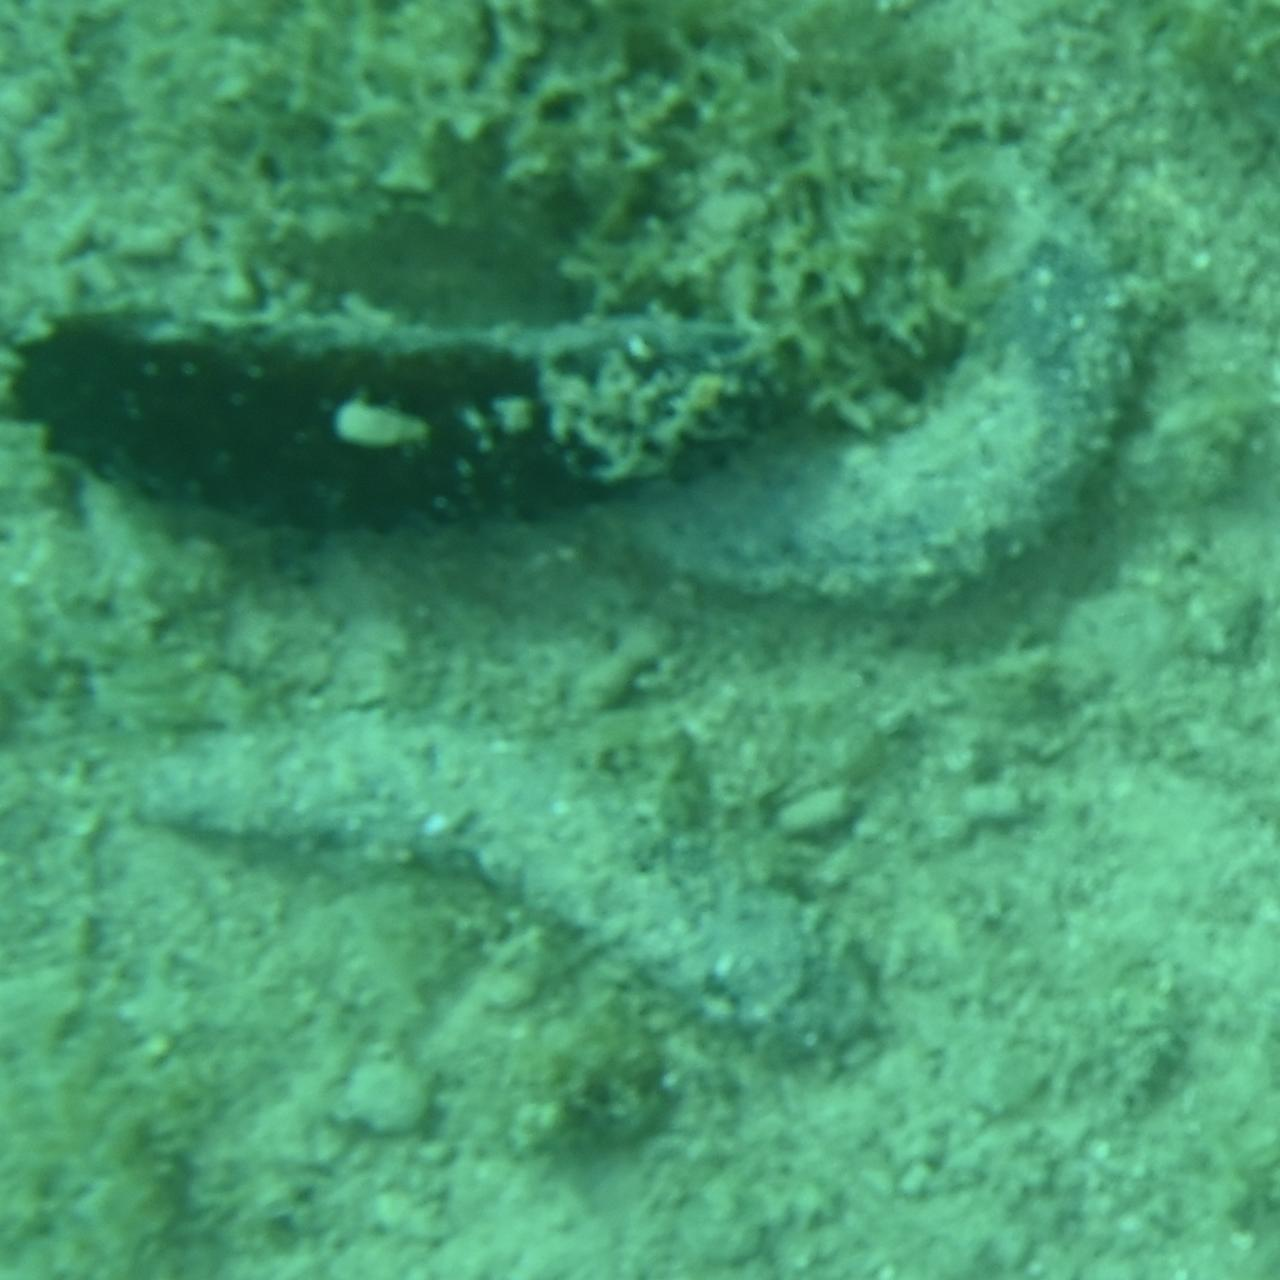Holothuria tubulosa: (114, 700, 898, 1074), (578, 161, 1163, 626), (16, 277, 805, 547)
